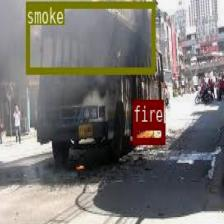fire: (132, 123, 164, 143)
smoke: (26, 0, 154, 74)
